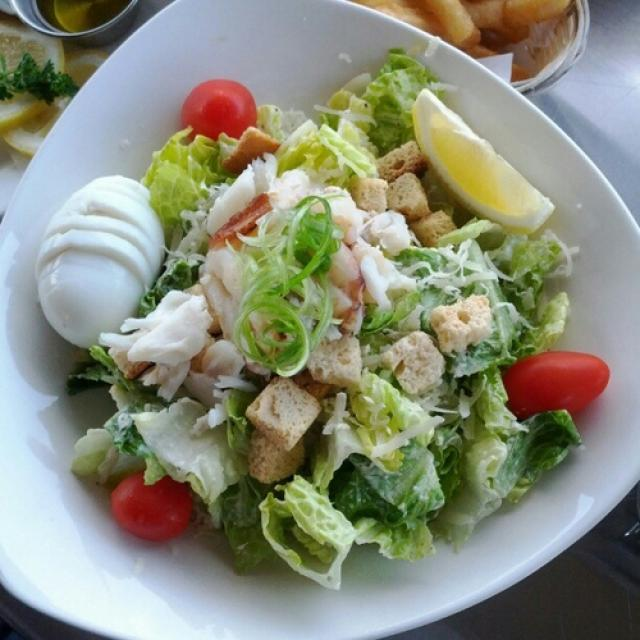蔬菜料理: (5, 20, 630, 626)
